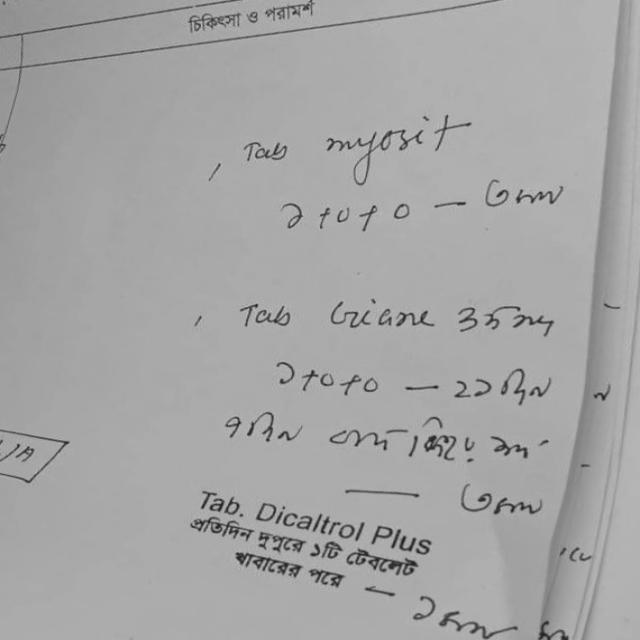medicine: (315, 112, 463, 168), (324, 291, 438, 341)
